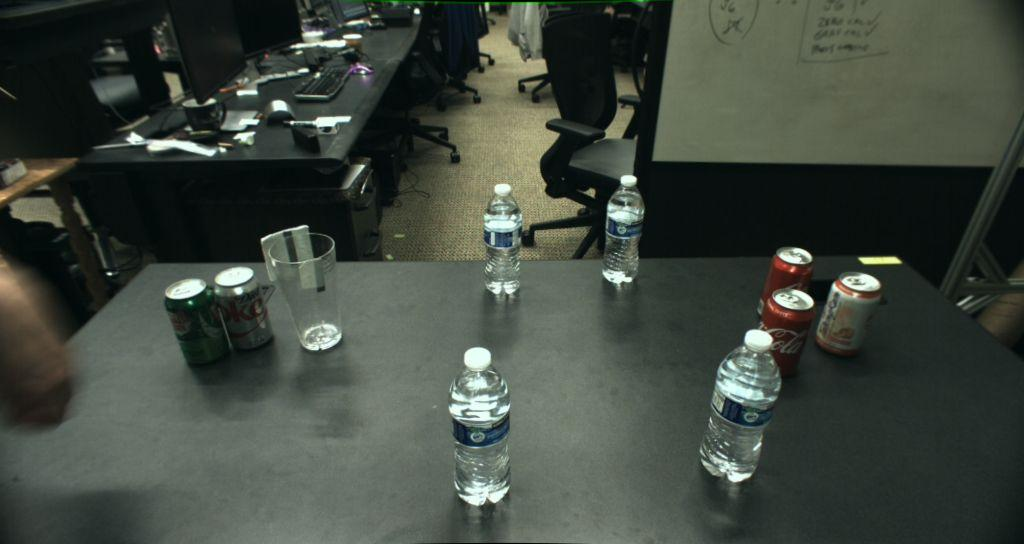can_diet_coke: (213, 267, 273, 351)
can_ginger_ale: (165, 279, 229, 364)
can_talking_rain_peach_nectarine: (814, 272, 881, 356)
water_bottle: (699, 329, 781, 482), (448, 347, 510, 506), (602, 175, 644, 283), (483, 184, 522, 294)
